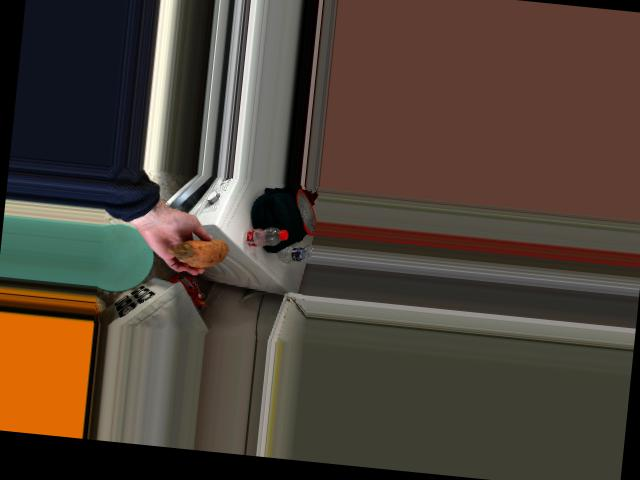sweet_potato: (164, 232, 233, 266)
